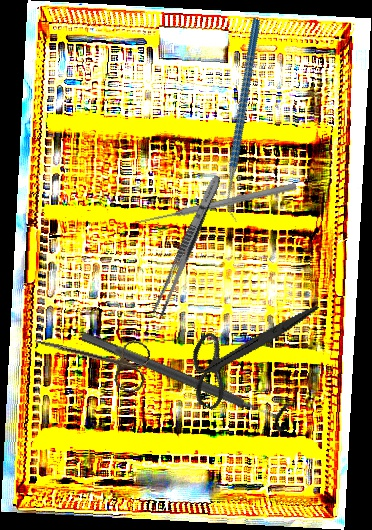Chopper: (164, 17, 327, 223)
Dressing Forceps: (151, 173, 224, 318)
Fixation Ring: (75, 319, 296, 436)
Iris Scissors: (174, 267, 320, 433), (28, 318, 153, 395)
Pusher: (136, 180, 298, 228)
